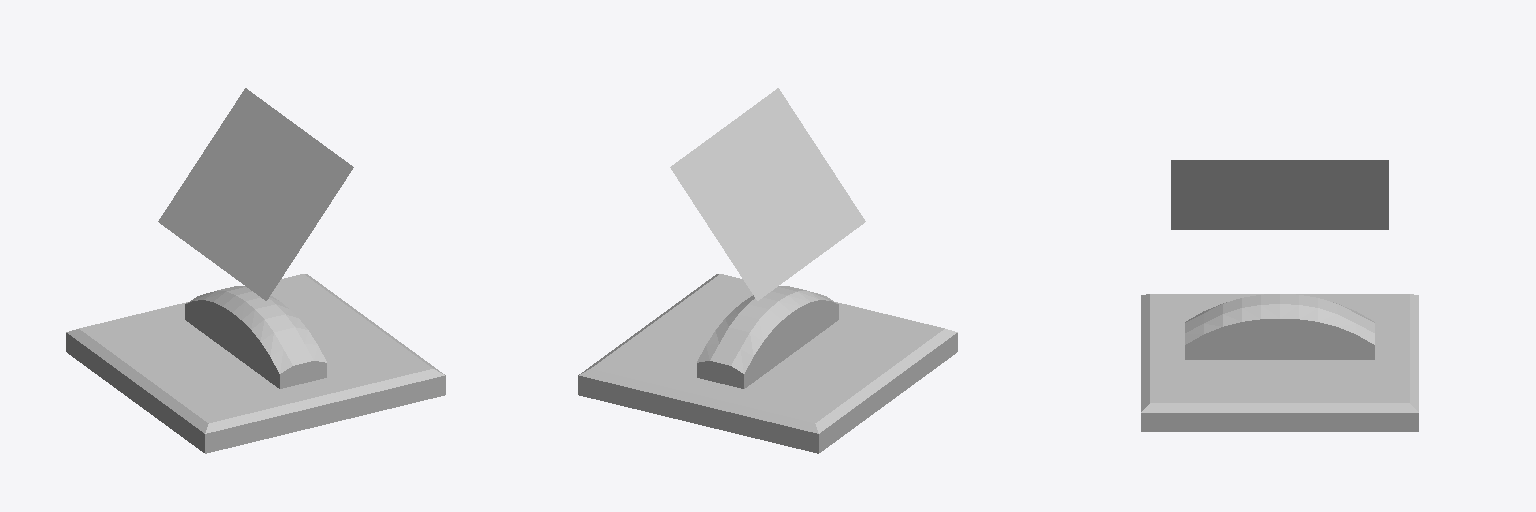
The model's file is controllerPC.obj.
The picture shows the model from 3 angles: view 1: azimuth 30°, elevation 25°; view 2: azimuth 150°, elevation 25°; view 3: azimuth 270°, elevation 25°; orthographic projection.
Visible parts, largest first — view 1: ControllerPCBase, Projection, ConrollerPCProjector; view 2: ControllerPCBase, Projection, ConrollerPCProjector; view 3: ControllerPCBase, Projection, ConrollerPCProjector.
Part boxes in pixels (left/top/right/bottom): ControllerPCBase: left=66, top=274, right=445, bottom=453; Projection: left=158, top=88, right=353, bottom=300; ConrollerPCProjector: left=185, top=286, right=326, bottom=388; ControllerPCBase: left=578, top=274, right=957, bottom=453; Projection: left=670, top=88, right=865, bottom=300; ConrollerPCProjector: left=697, top=286, right=838, bottom=388; ControllerPCBase: left=1141, top=294, right=1418, bottom=431; Projection: left=1171, top=160, right=1388, bottom=229; ConrollerPCProjector: left=1185, top=294, right=1374, bottom=359.
Size of the model in its own units: 1 by 0.9358 by 1.